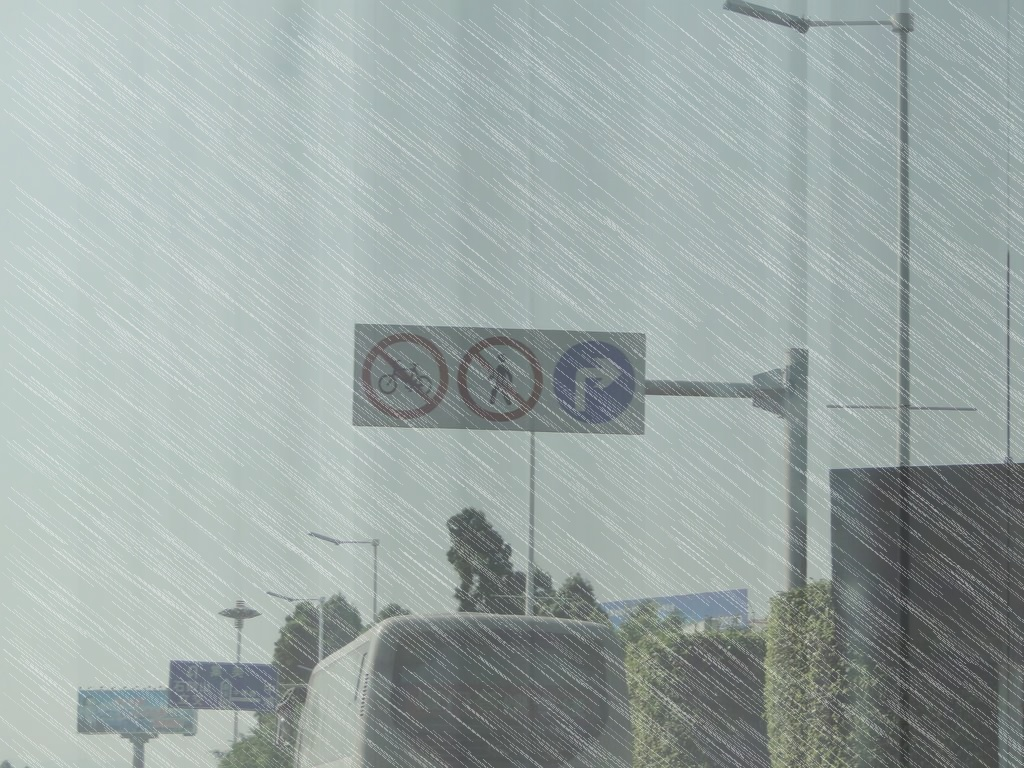Informative Signs: (550, 338, 637, 428)
Prohibitory Signs: (456, 335, 546, 425), (360, 332, 451, 421)
